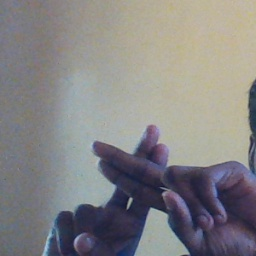F: (73, 121, 204, 245)
